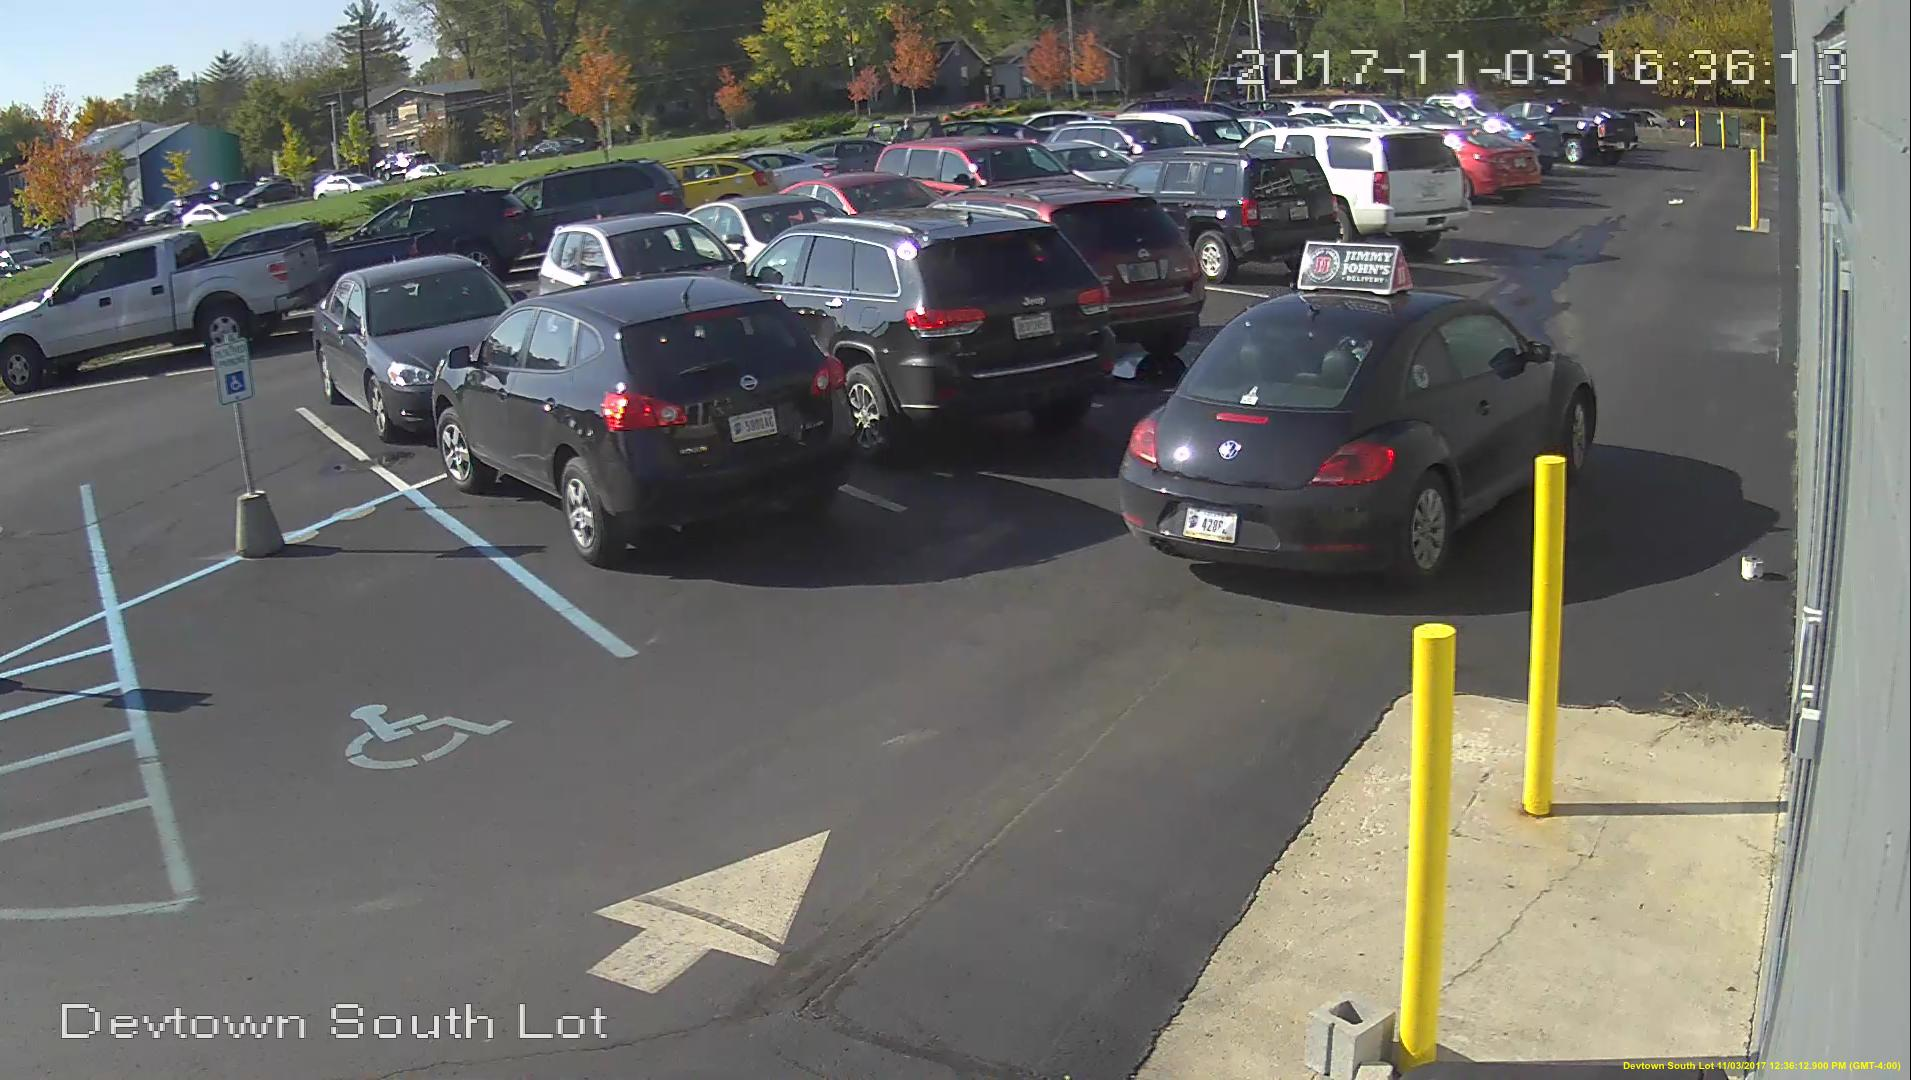jimmy_johns: (1291, 238, 1414, 298)
